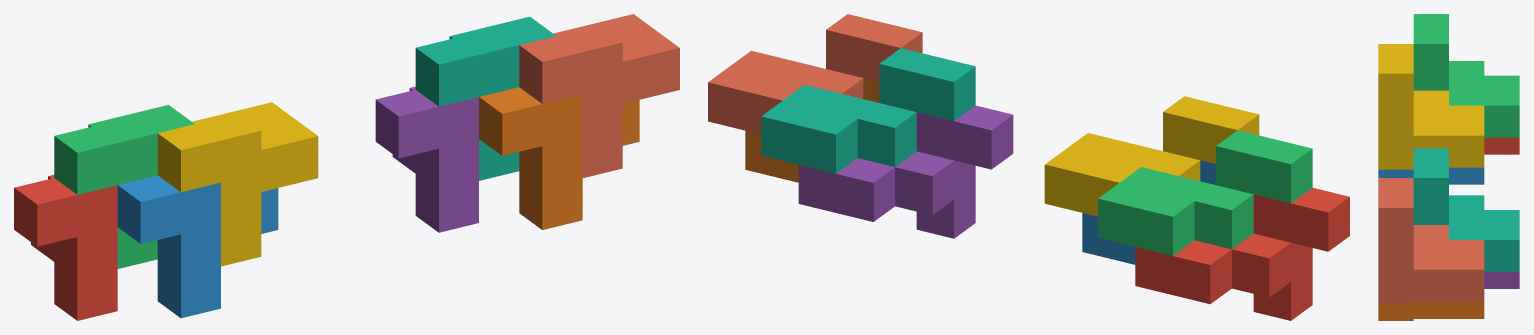
Rendered from tiling.obj.
3 renders of one model, left to right at view 1: azimuth 30°, elevation 25°; view 2: azimuth 150°, elevation 25°; view 3: azimuth 270°, elevation 25°, orthographic. The views are drawn at different scales.
Visible parts, largest first — view 1: copy_1_domain_4, copy_1_domain_8, copy_1_domain_6, copy_1_domain_2, copy_1_domain_1, copy_1_domain_5, copy_1_domain_7, copy_1_domain_3; view 2: copy_1_domain_3, copy_1_domain_7, copy_1_domain_5, copy_1_domain_1, copy_1_domain_4, copy_1_domain_8, copy_1_domain_6, copy_1_domain_2; view 3: copy_1_domain_8, copy_1_domain_4, copy_1_domain_3, copy_1_domain_7, copy_1_domain_6, copy_1_domain_2, copy_1_domain_1, copy_1_domain_5.
Part boxes in pixels (<box>): copy_1_domain_4: <box>157,102,318,266</box>; copy_1_domain_8: <box>519,14,679,177</box>; copy_1_domain_6: <box>479,87,639,229</box>; copy_1_domain_2: <box>117,175,278,318</box>; copy_1_domain_1: <box>14,175,117,320</box>; copy_1_domain_5: <box>375,86,478,232</box>; copy_1_domain_7: <box>415,16,555,180</box>; copy_1_domain_3: <box>54,105,194,268</box>; copy_1_domain_3: <box>1098,130,1312,255</box>; copy_1_domain_7: <box>761,48,975,173</box>; copy_1_domain_5: <box>798,105,1013,238</box>; copy_1_domain_1: <box>1135,187,1349,320</box>; copy_1_domain_4: <box>1044,96,1259,216</box>; copy_1_domain_8: <box>708,14,922,134</box>; copy_1_domain_6: <box>745,78,879,182</box>; copy_1_domain_2: <box>1082,160,1215,264</box>; copy_1_domain_8: <box>1378,178,1484,303</box>; copy_1_domain_4: <box>1378,44,1484,169</box>; copy_1_domain_3: <box>1413,14,1519,137</box>; copy_1_domain_7: <box>1413,148,1519,271</box>; copy_1_domain_6: <box>1378,301,1484,320</box>; copy_1_domain_2: <box>1378,167,1484,184</box>; copy_1_domain_1: <box>1484,137,1519,154</box>; copy_1_domain_5: <box>1484,272,1519,288</box>.
Size of the model in its own units: 16 by 4 by 4.
